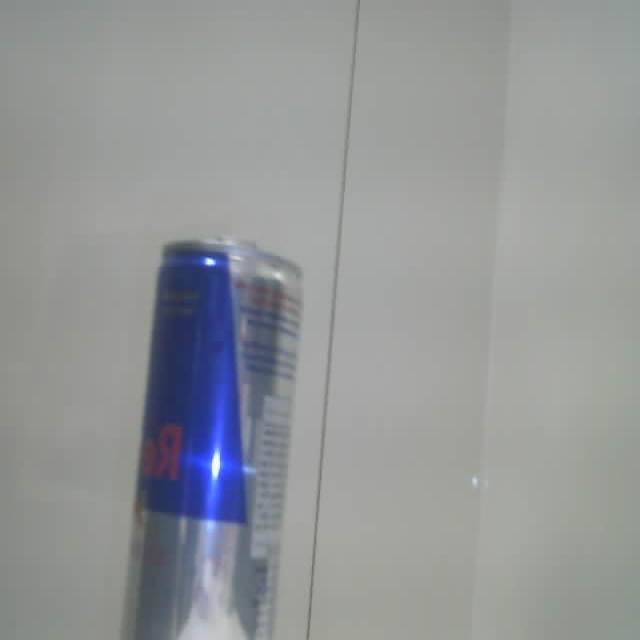redbull can: (122, 239, 301, 639)
